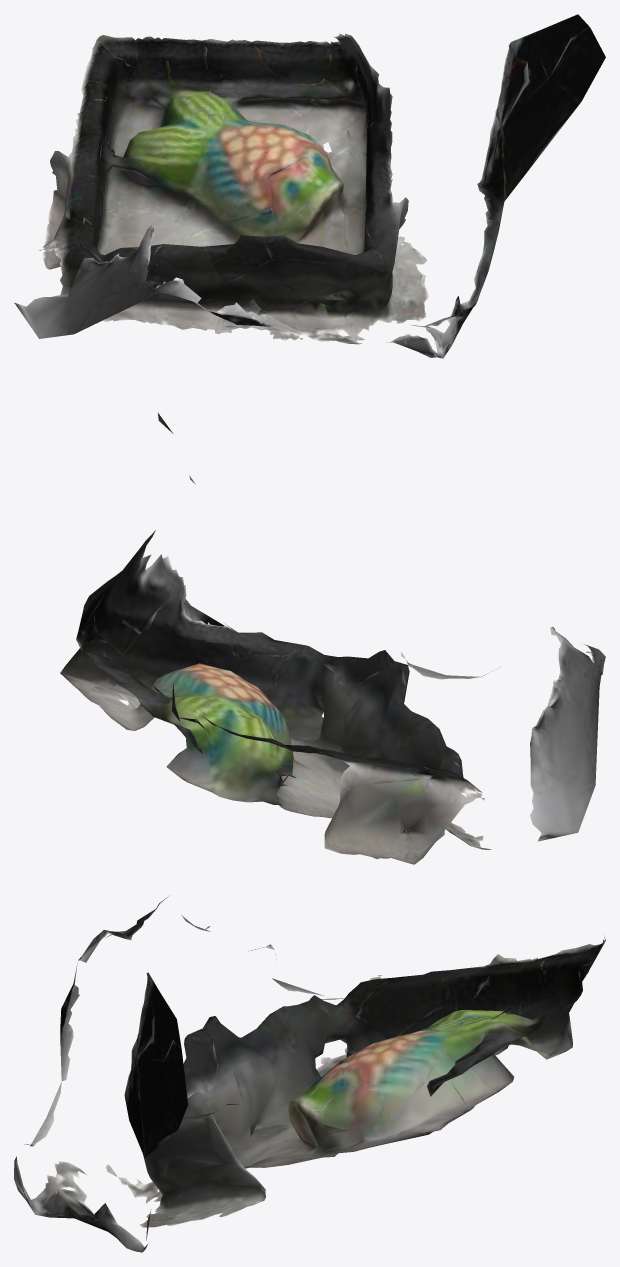
Rendered from hall.glb.
The picture shows the model from 3 angles, top to bottom: view 1: azimuth 30°, elevation 25°; view 2: azimuth 150°, elevation 25°; view 3: azimuth 270°, elevation 25°; orthographic projection. The views are drawn at different scales.
Bounding box in the file's own units: 0.9594 × 0.4533 × 0.7635.
1 material, 1 textured.
